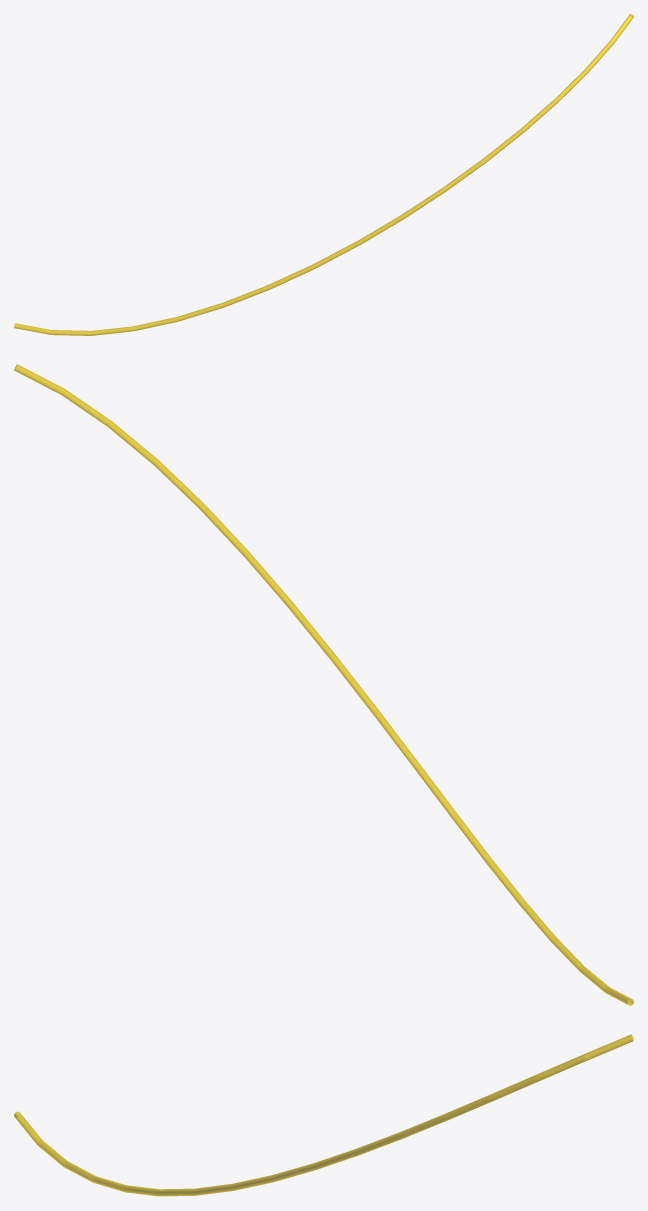
The model's file is Event_84804159_track_13.fbx.
The picture shows the model from 3 angles, top to bottom: view 1: azimuth 30°, elevation 25°; view 2: azimuth 150°, elevation 25°; view 3: azimuth 330°, elevation 25°; orthographic projection. The views are drawn at different scales.
Visible parts, largest first — view 1: Model; view 2: Model; view 3: Model.
Boxes of the visible parts, x1,y1,x2,y2 form: Model: (14,14,633,335); Model: (14,364,633,1005); Model: (14,1034,633,1196).
Bounding box in the file's own units: 4.76 × 2.24 × 1.67.
